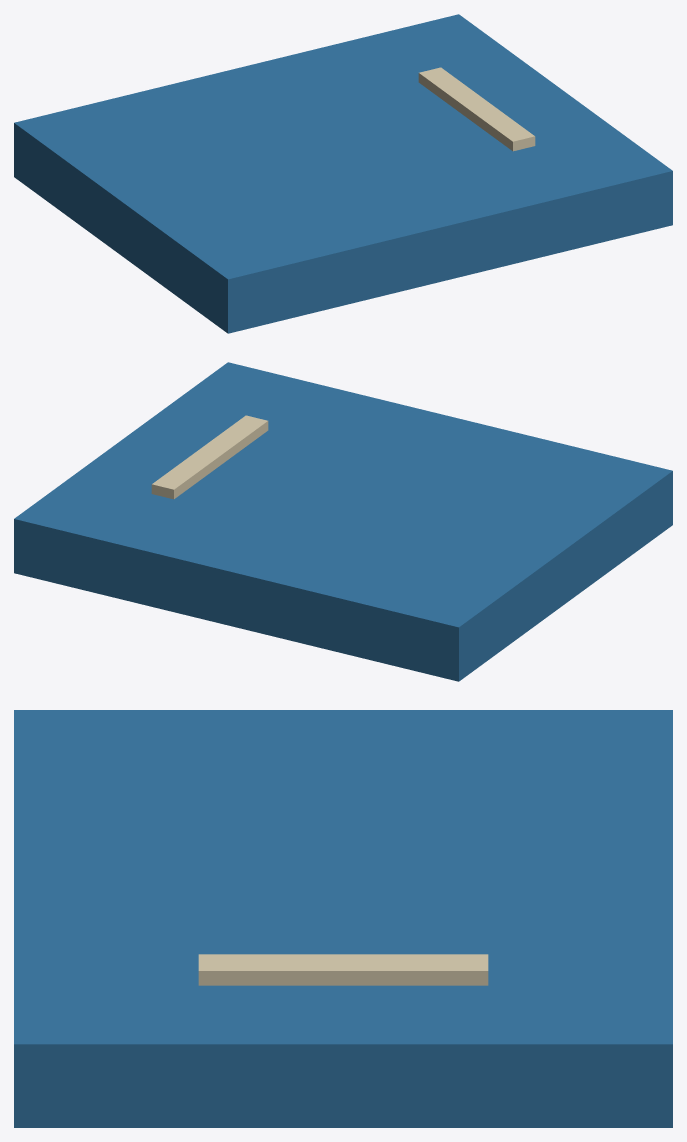
Rendered from memory_blanket.glb.
3 views of the same model, one above another, from view 1: azimuth 30°, elevation 25°; view 2: azimuth 150°, elevation 25°; view 3: azimuth 270°, elevation 25° (orthographic). The views are drawn at different scales.
Parts seen in each view (by area): view 1: folded_blanket, initial_stitch; view 2: folded_blanket, initial_stitch; view 3: folded_blanket, initial_stitch.
Part boxes in pixels (<box>): folded_blanket: <box>14,14,672,333</box>; initial_stitch: <box>418,67,535,151</box>; folded_blanket: <box>14,362,672,681</box>; initial_stitch: <box>151,415,268,499</box>; folded_blanket: <box>14,710,672,1127</box>; initial_stitch: <box>198,954,488,985</box>.
Bounding box in the file's own units: 0.6 × 0.0825 × 0.5.
